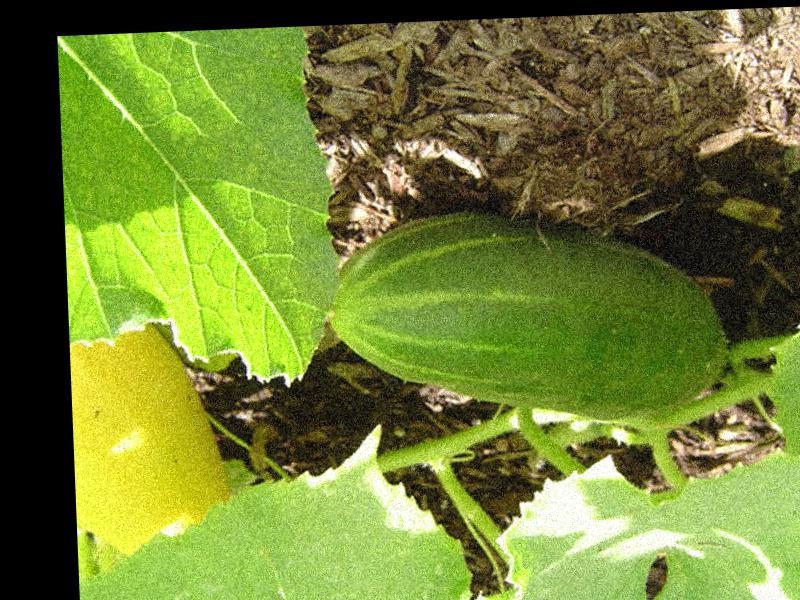Cucumber: (324, 199, 731, 433)
